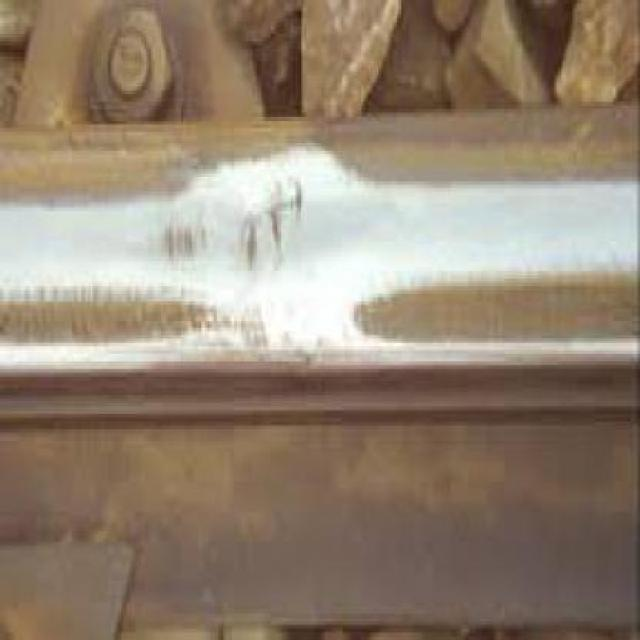defective: (110, 77, 440, 474)
